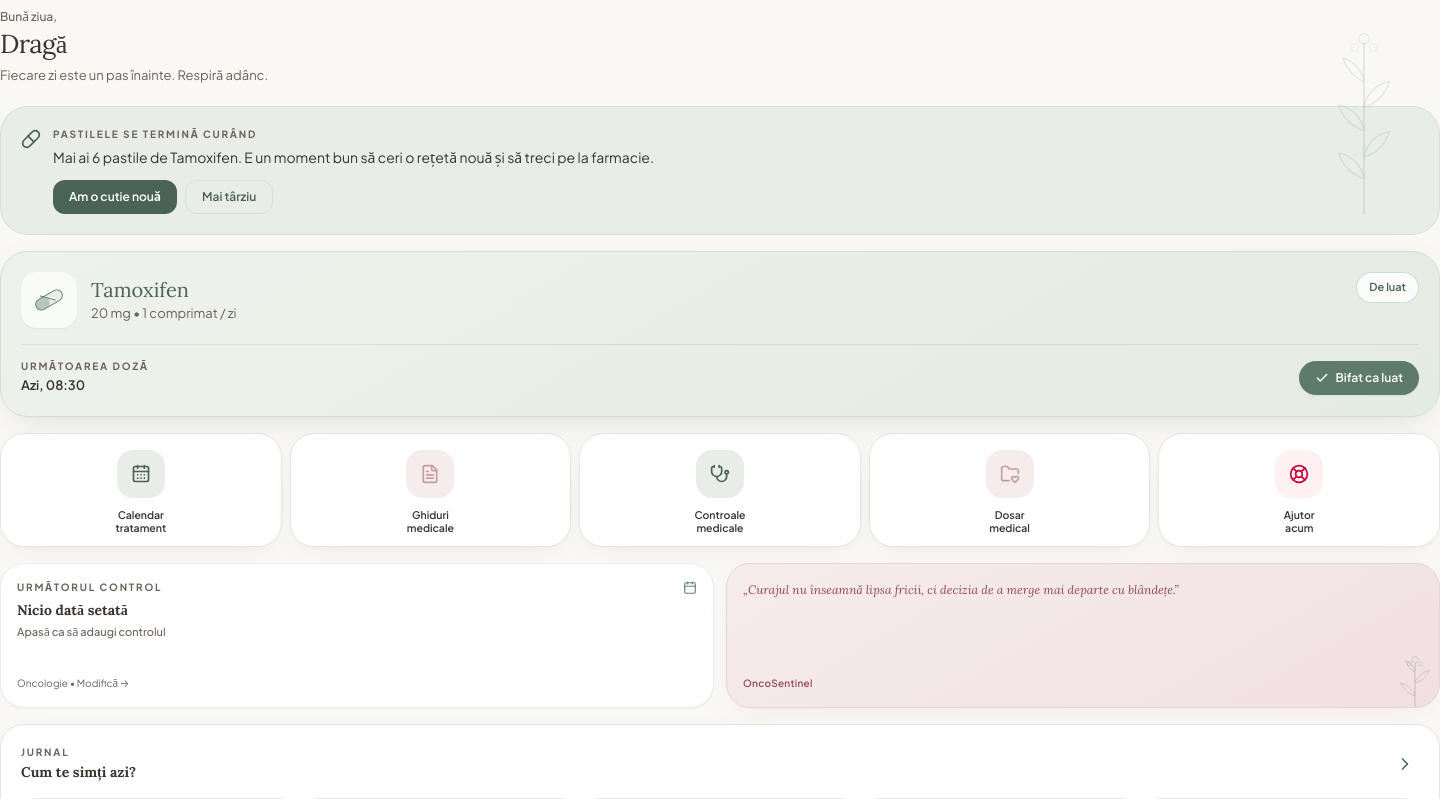
Test case: Pe Astăzi › „Am o cutie nouă” adaugă pastilele și confirmă
expect the heading "Pastilele se termină curând" is shown: met, box x1=53 y1=128 x2=257 y2=140
expect the text "Mai ai 6 pastile de Tamoxifen" is shown: met, box x1=53 y1=148 x2=654 y2=166
Click the button "Am o cutie nouă".
click(115, 197)  # box x1=53 y1=180 x2=177 y2=214
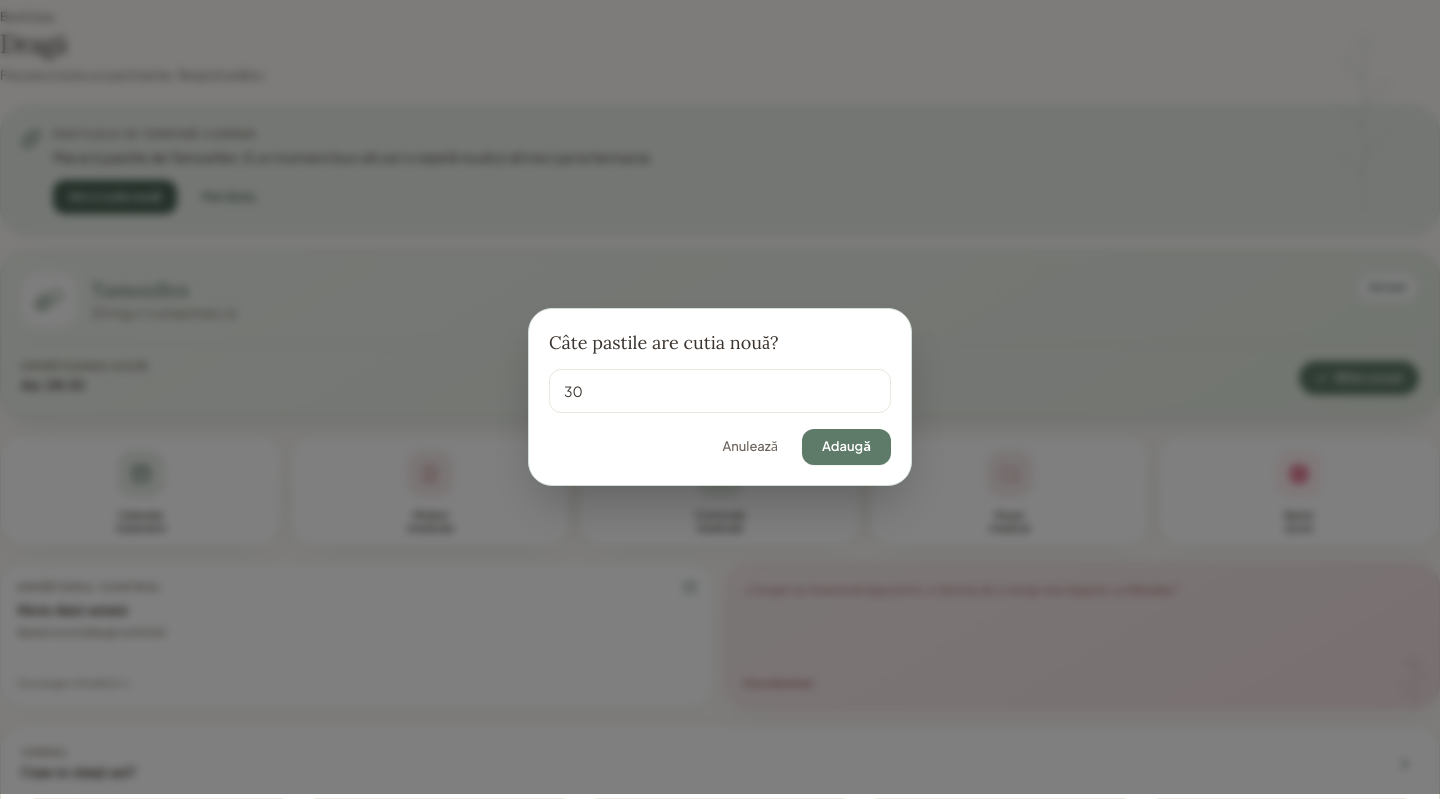
expect the number field labelled "Câte pastile are cutia nouă?" holds "30": met, box x1=549 y1=369 x2=891 y2=413
Click the button "Adaugă".
click(846, 447)  # box x1=802 y1=429 x2=891 y2=465
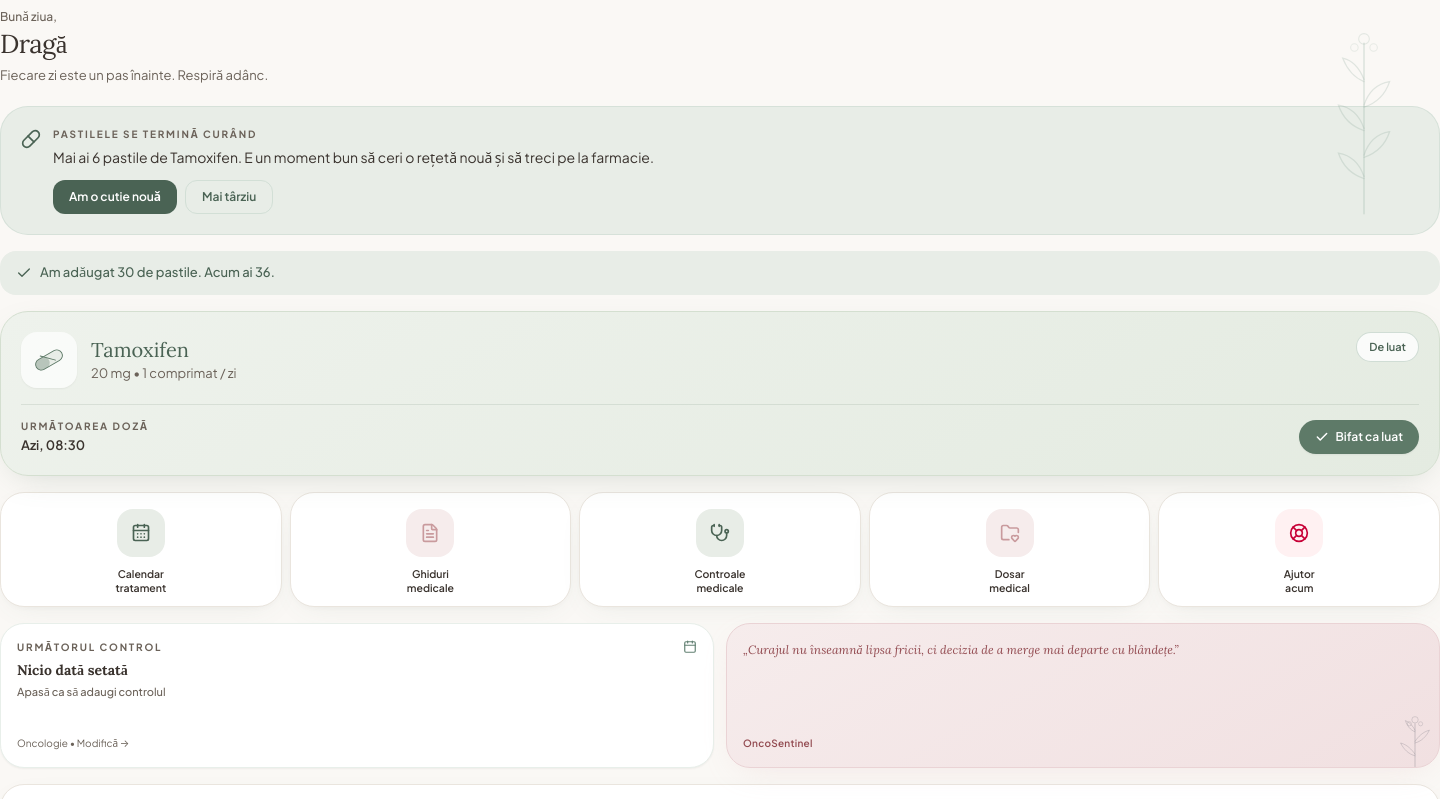
expect the message reads "Am adăugat 30 de pastile. Acum ai 36.": met, box x1=40 y1=264 x2=275 y2=280
